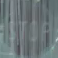Stop: (5, 2, 51, 44)
